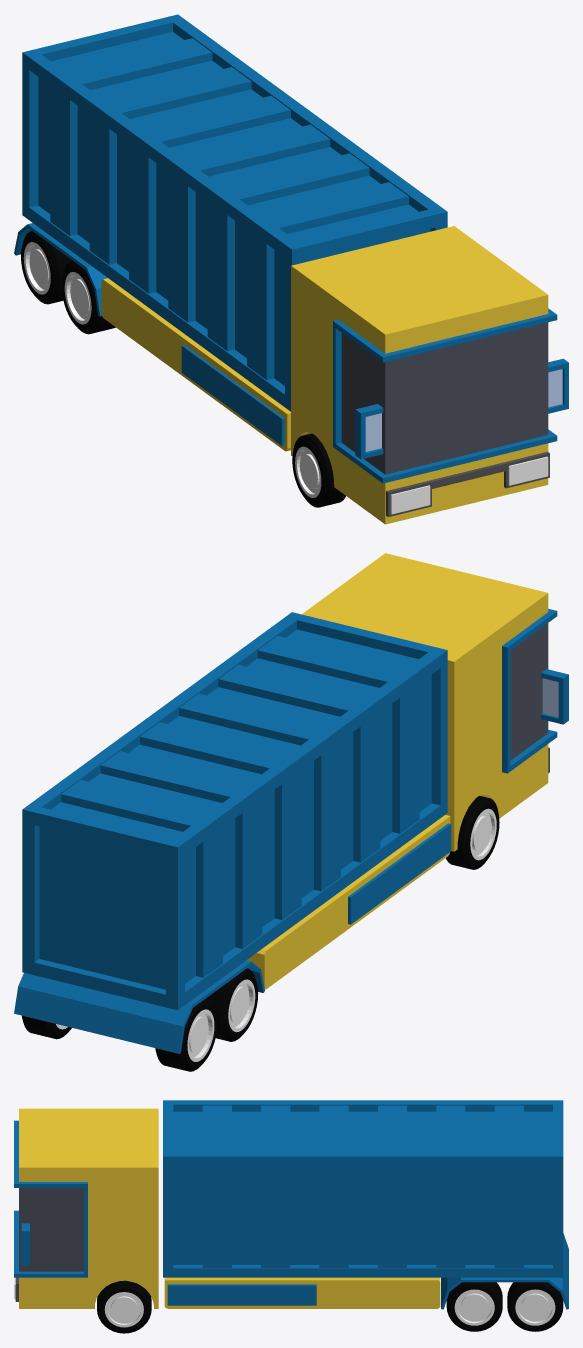
The model's file is Truck_yellow.glb.
3 renders of one model, top to bottom at view 1: azimuth 30°, elevation 25°; view 2: azimuth 150°, elevation 25°; view 3: azimuth 270°, elevation 25°, orthographic. The views are drawn at different scales.
Visible parts, largest first — view 1: TruckBody1; view 2: TruckBody1; view 3: TruckBody1.
Part boxes in pixels (bbox=[...]): TruckBody1: bbox=[14, 14, 568, 524]; TruckBody1: bbox=[14, 553, 568, 1071]; TruckBody1: bbox=[14, 1100, 568, 1333].
Size of the model in its own units: 8.76 by 9.47 by 27.26.
